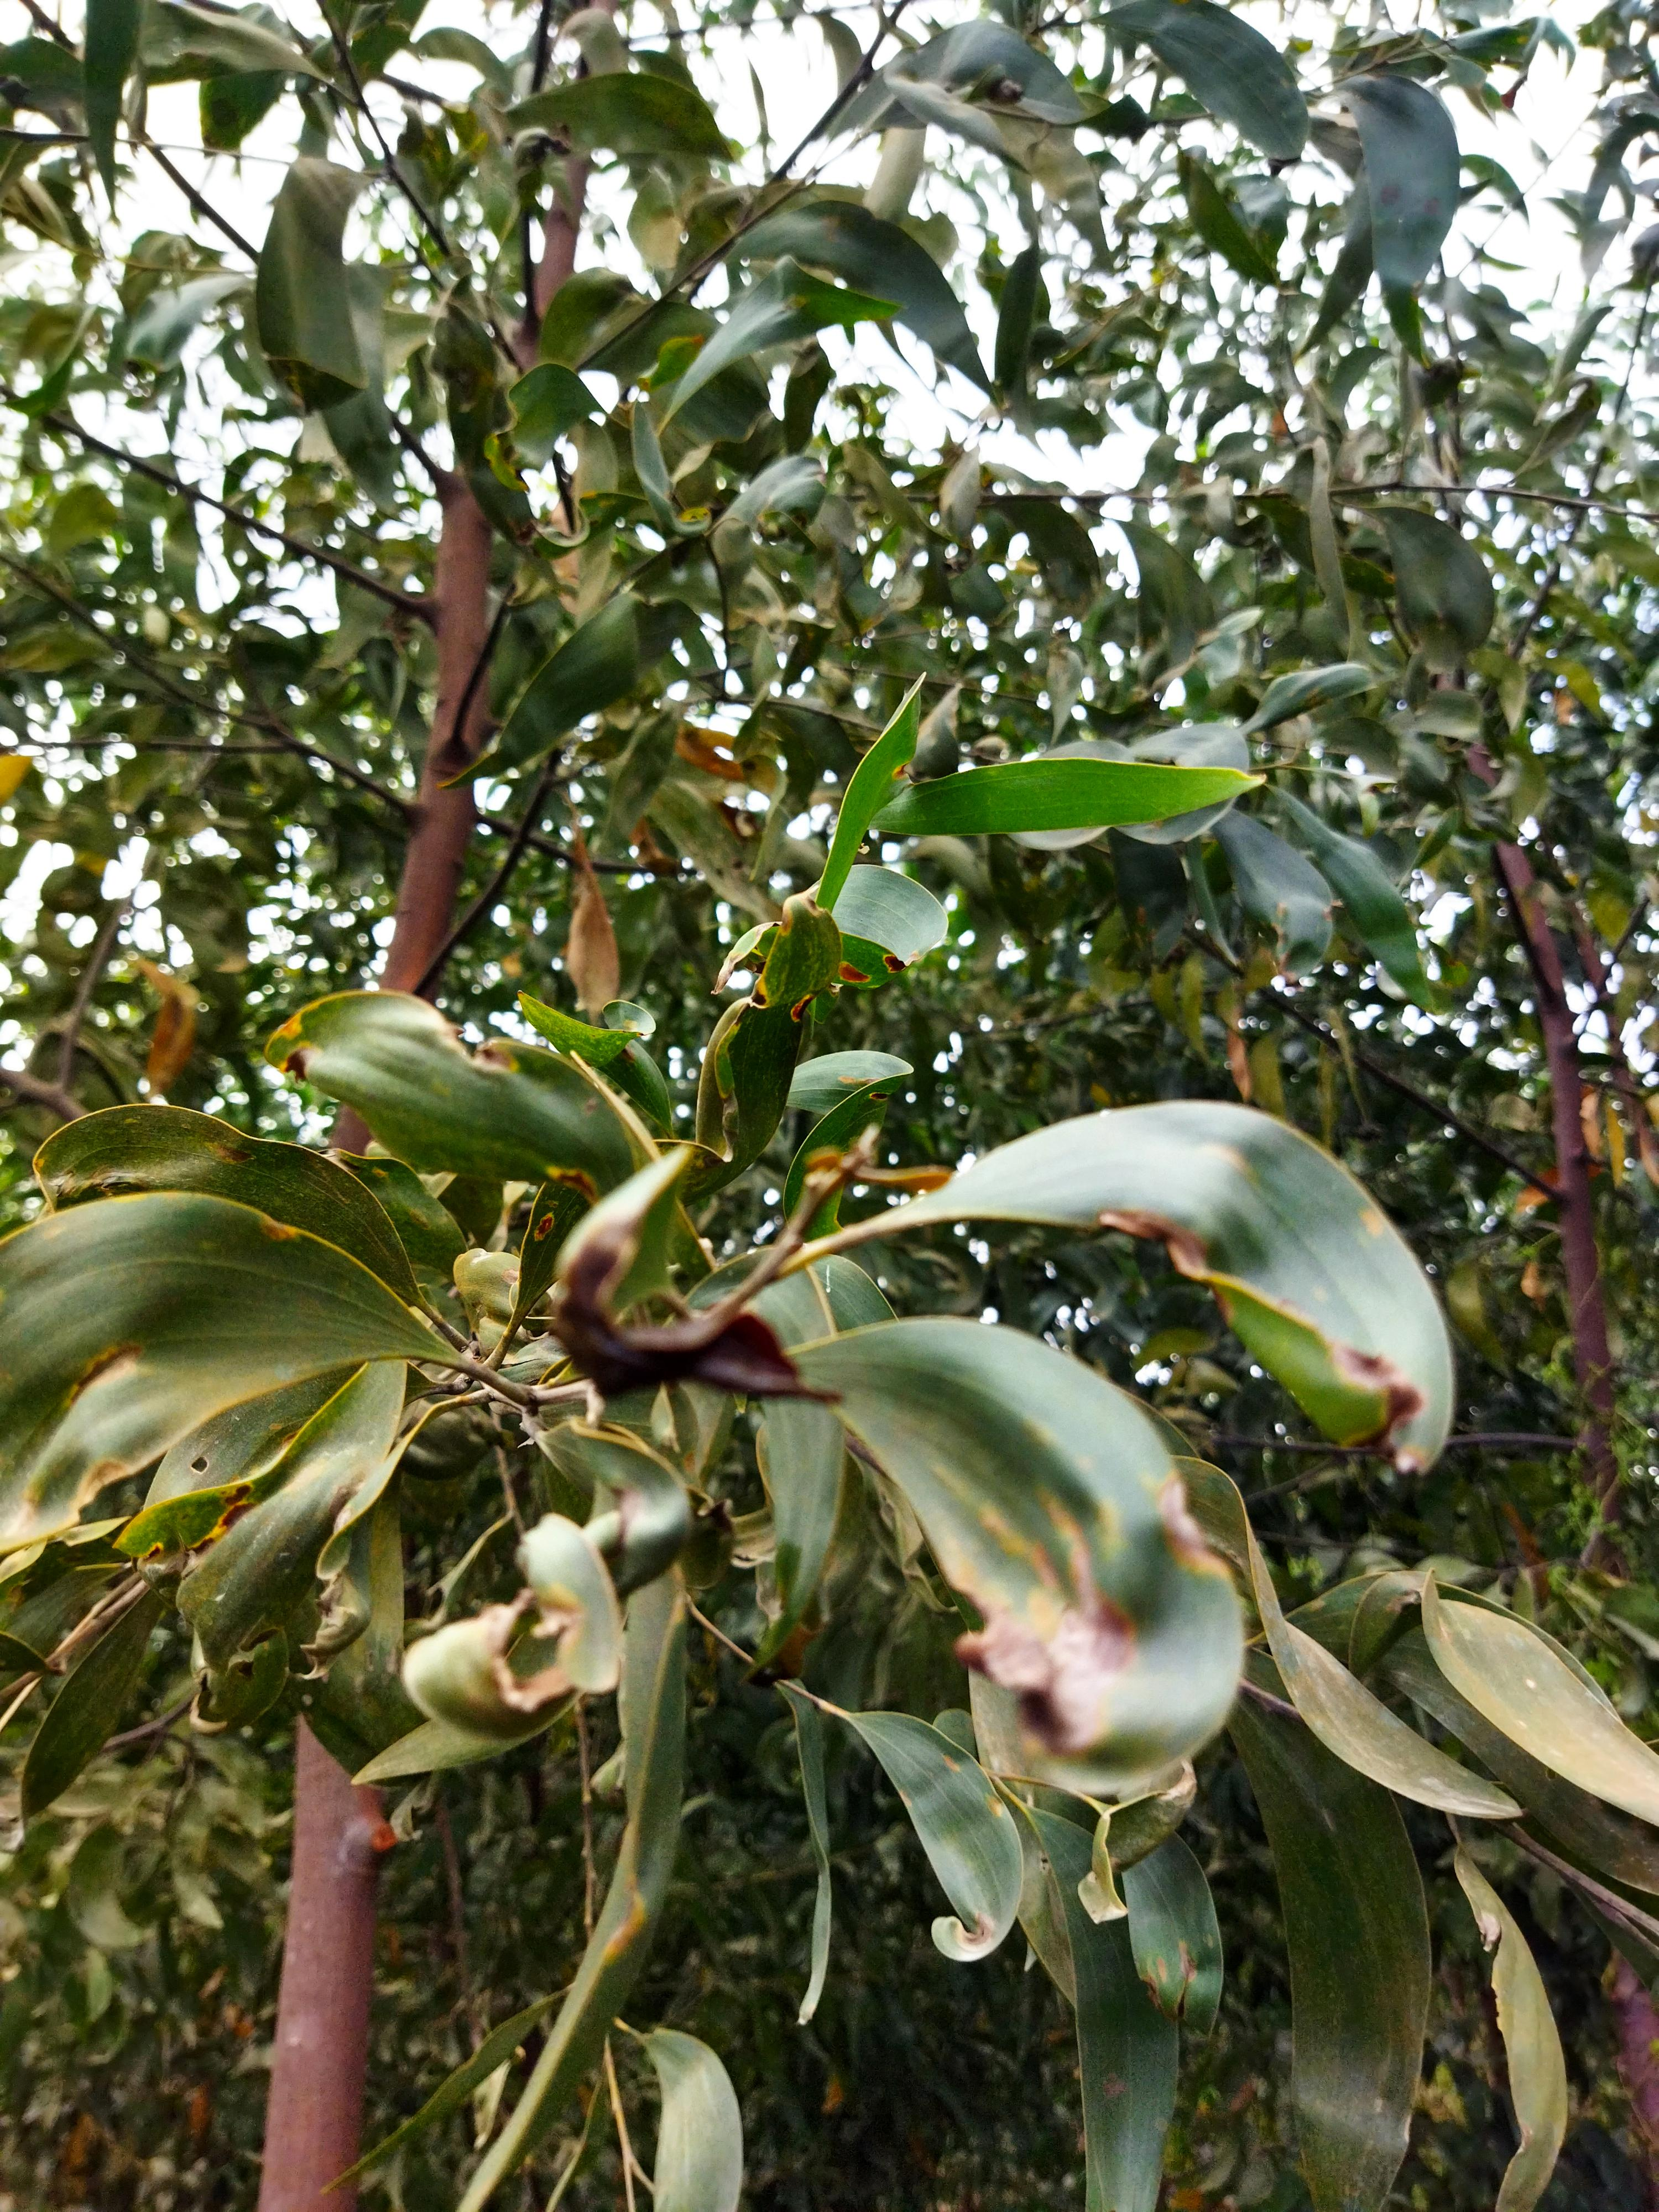Pasalora: (831, 1362, 1270, 1792), (1073, 1075, 1513, 1456), (852, 1716, 1066, 1996), (389, 1578, 589, 1721)
